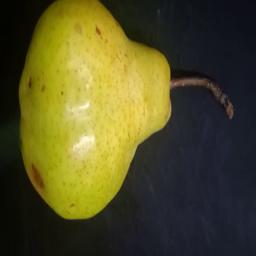Pear Semifresh: (15, 2, 245, 222)
